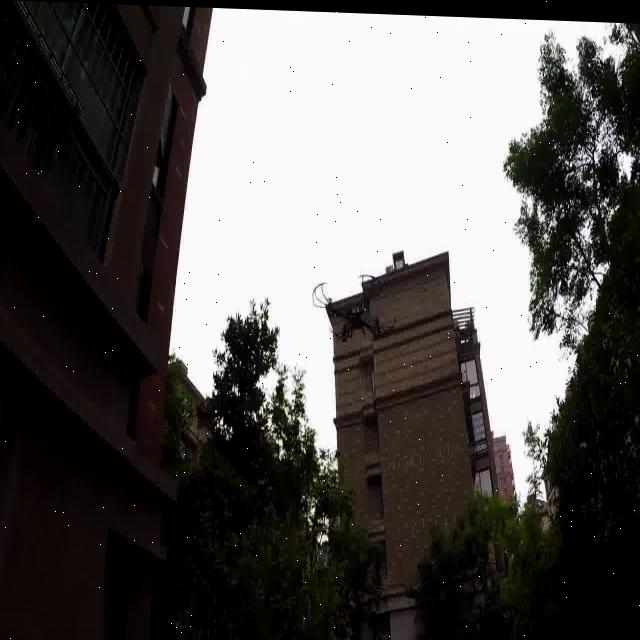drone: (300, 258, 411, 358)
